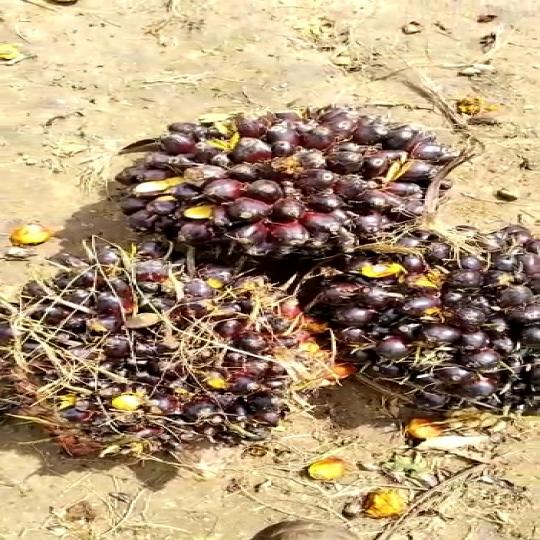mentah: (0, 231, 301, 475), (280, 209, 540, 431), (127, 95, 452, 265)
